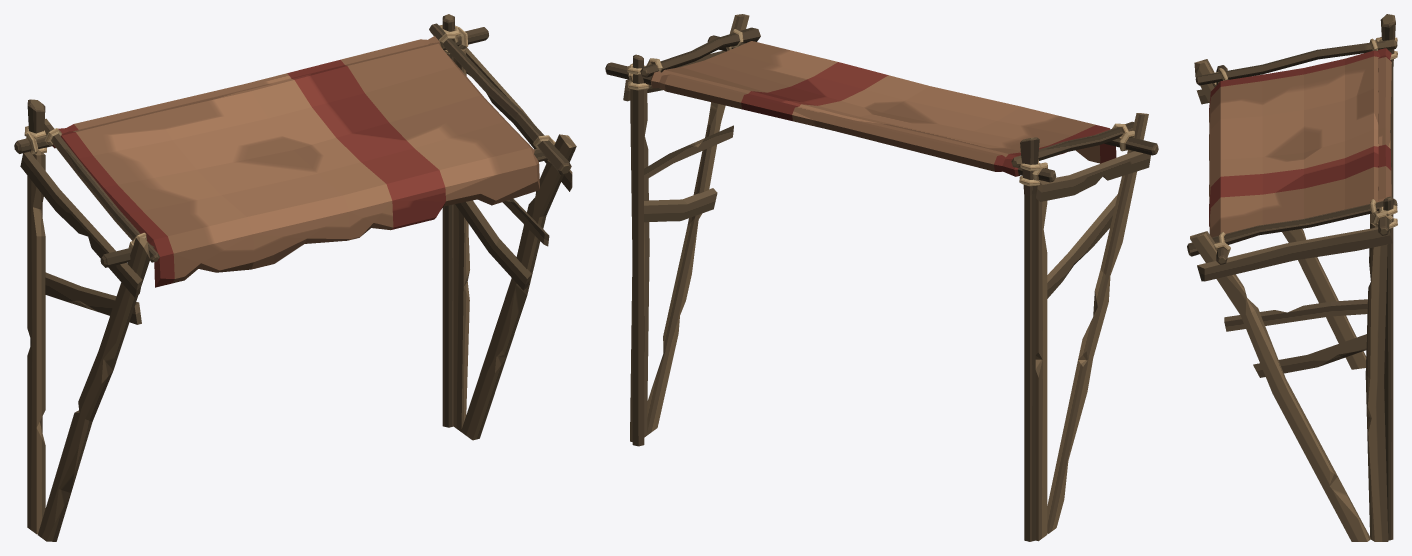
The model's file is SM_Prop_Awning_02.fbx.
3 views of the same model, side by side, from view 1: azimuth 30°, elevation 25°; view 2: azimuth 150°, elevation 25°; view 3: azimuth 270°, elevation 25° (orthographic). The views are drawn at different scales.
Visible parts, largest first — view 1: SM_Prop_Awning_02; view 2: SM_Prop_Awning_02; view 3: SM_Prop_Awning_02.
Boxes of the visible parts, x1,y1,x2,y2 form: SM_Prop_Awning_02: [14, 14, 576, 541]; SM_Prop_Awning_02: [605, 14, 1158, 541]; SM_Prop_Awning_02: [1187, 14, 1397, 541].
Size of the model in its own units: 363 by 306 by 165.
